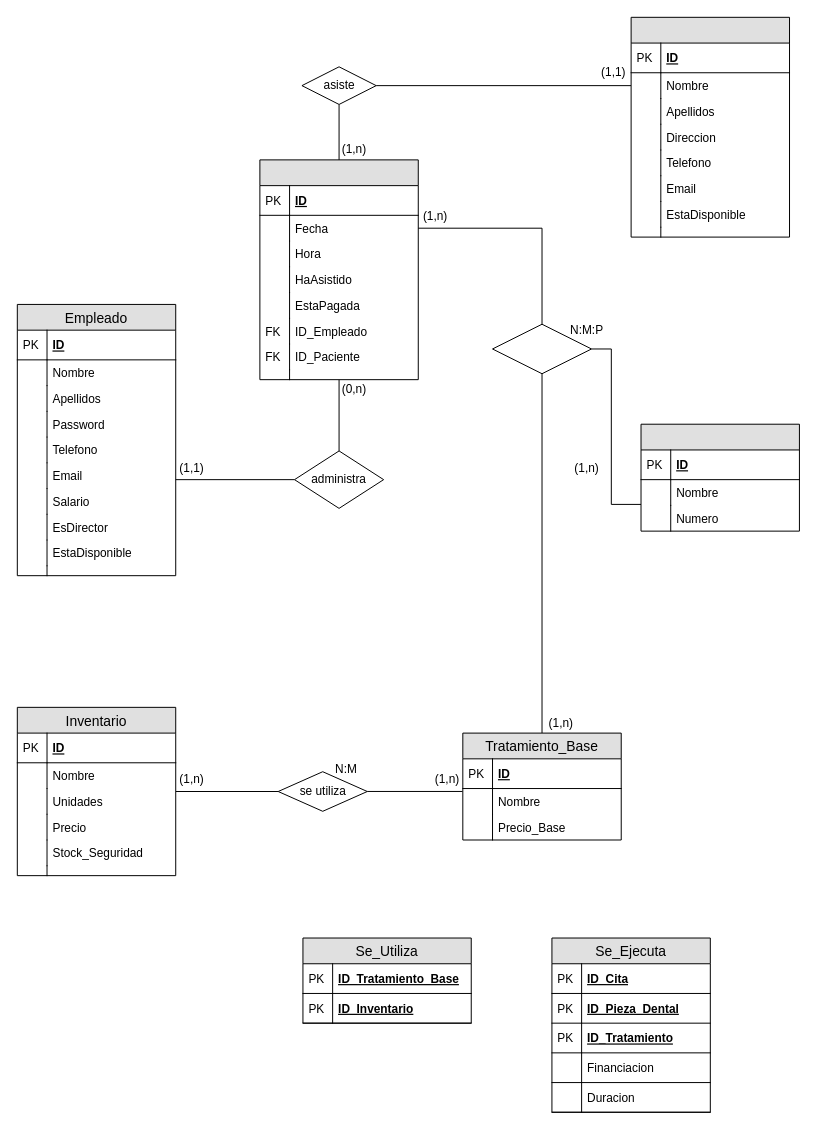
Image size: 817x1130. Some labels were removed from this diagram. The box of each missing label's shape, as (x1, y1, x2, y2) in pixels:
Cita: (259, 159, 418, 380)
Paciente: (630, 16, 790, 237)
Pieza_Dental: (640, 423, 799, 531)
se ejecuta: (492, 323, 592, 374)
